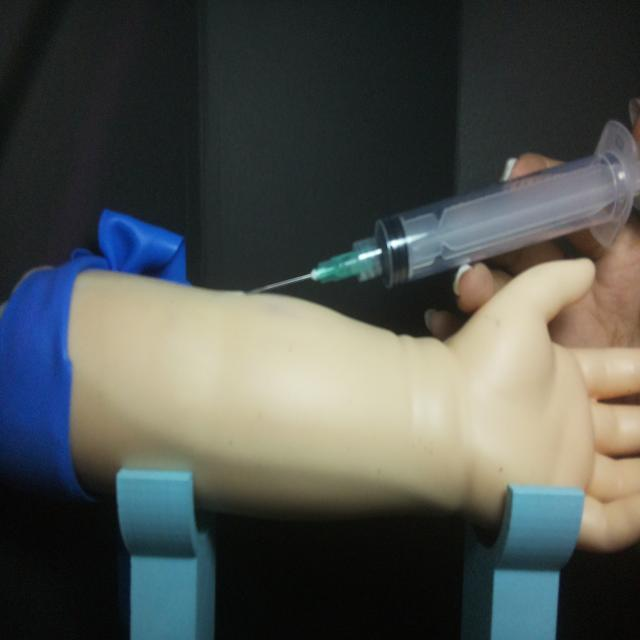18deg: (244, 120, 640, 295)
